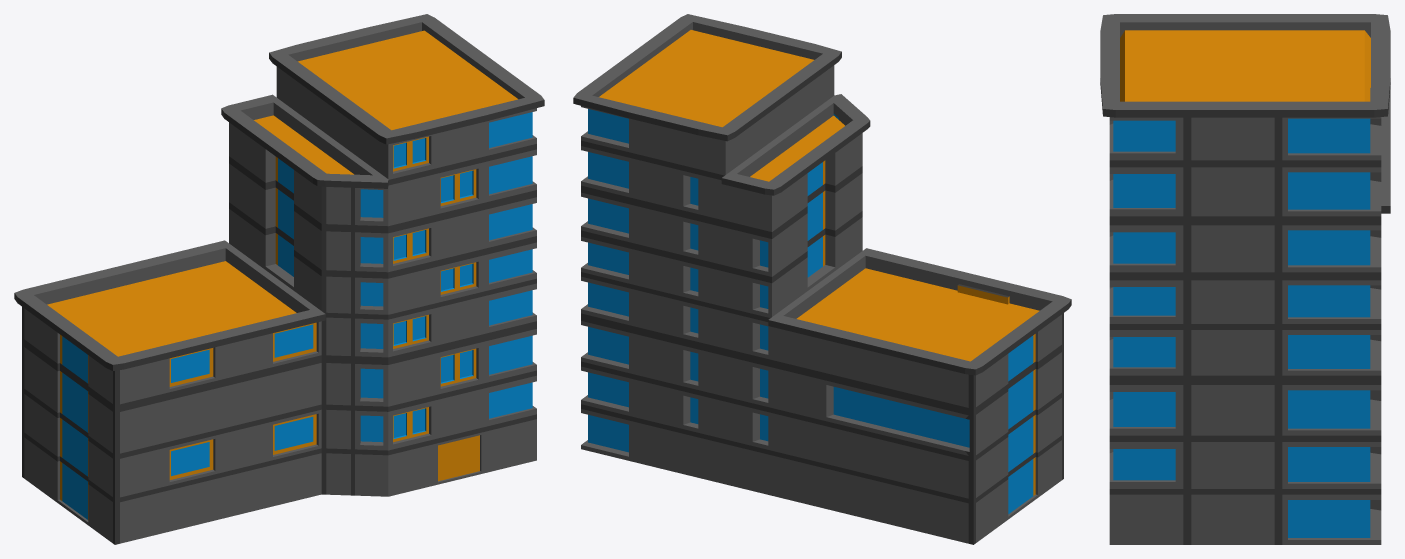
The model's file is apartament_marzec.fbx.
3 renders of one model, left to right at view 1: azimuth 30°, elevation 25°; view 2: azimuth 150°, elevation 25°; view 3: azimuth 270°, elevation 25°, orthographic. The views are drawn at different scales.
Parts seen in each view (by area): view 1: Plane; view 2: Plane; view 3: Plane.
Boxes of the visible parts, left/top/right/bottom form: Plane: left=14, top=14, right=544, bottom=544; Plane: left=573, top=14, right=1071, bottom=544; Plane: left=1100, top=14, right=1390, bottom=544.
Bounding box in the file's own units: 561 × 465 × 279.
